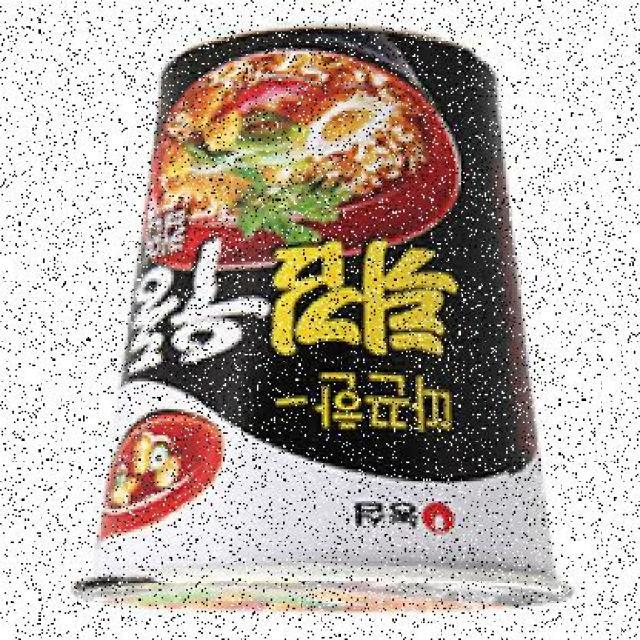Miscellaneous: (60, 20, 571, 628)
